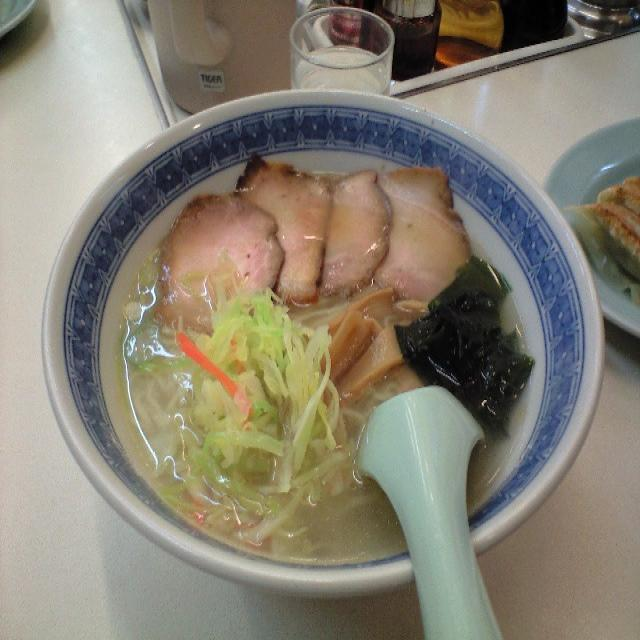面条主食: (120, 149, 537, 576)
